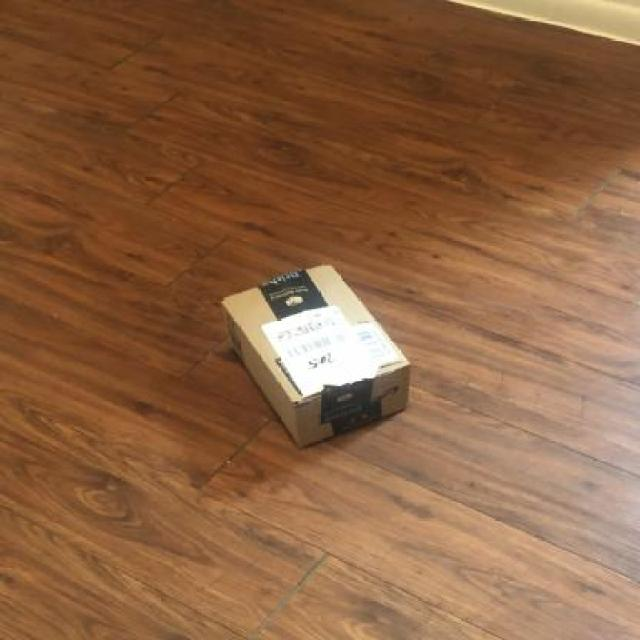cardboxes: (215, 261, 414, 453)
